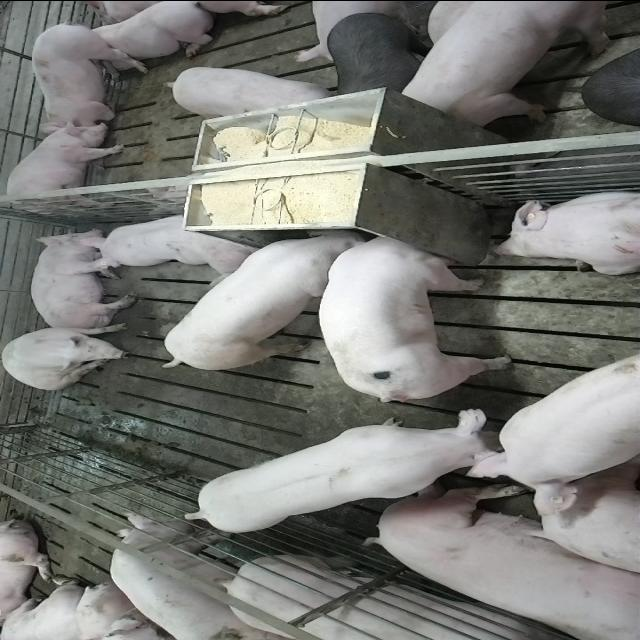Feeding: (319, 224, 516, 396), (160, 229, 363, 375)
Lateral_lying: (368, 482, 640, 636), (29, 227, 139, 331)
Sitting: (2, 324, 138, 389)
Standing: (183, 403, 516, 533), (220, 551, 594, 640), (394, 1, 618, 124), (468, 353, 640, 495), (105, 516, 279, 640), (28, 22, 150, 128), (4, 120, 130, 210), (160, 62, 332, 116), (326, 11, 426, 95)
Sternal_lying: (490, 186, 640, 274), (84, 209, 264, 273), (79, 1, 215, 59)
